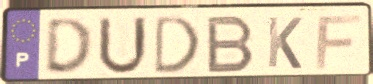B: (204, 13, 257, 75)
D: (42, 16, 96, 78), (151, 13, 202, 77)
F: (313, 13, 364, 71)
K: (265, 15, 305, 72)
U: (95, 14, 151, 78)
